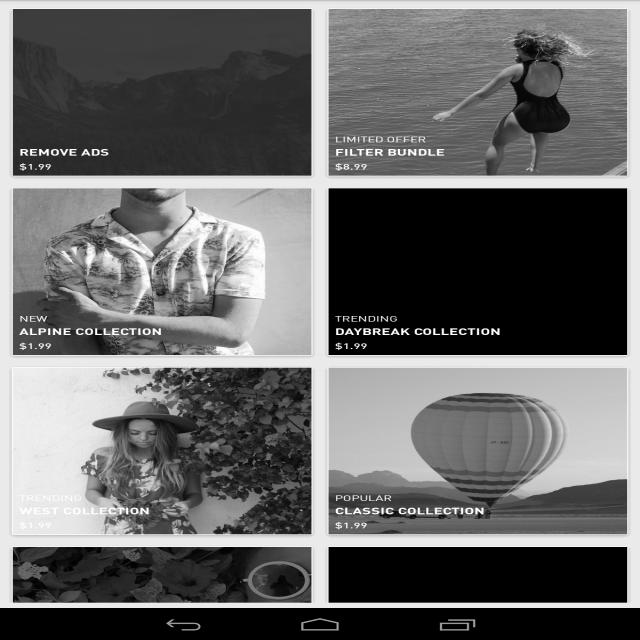ImageView: (13, 9, 311, 176), (329, 9, 627, 176), (13, 188, 311, 355), (329, 188, 627, 355), (13, 368, 311, 534), (329, 368, 627, 534), (13, 547, 311, 640), (329, 547, 627, 640), (2, 541, 140, 568), (144, 541, 282, 568), (286, 541, 423, 568), (428, 541, 565, 568), (436, 482, 501, 518), (8, 482, 72, 518), (79, 482, 143, 518), (150, 482, 214, 518), (222, 482, 286, 518), (294, 482, 358, 518), (365, 482, 429, 518), (508, 482, 572, 518), (579, 482, 640, 518), (569, 541, 640, 567), (307, 584, 333, 600), (142, 589, 157, 595)
TextView: (5, 0, 130, 37), (552, 0, 634, 37), (440, 585, 627, 599), (335, 324, 501, 339), (335, 503, 485, 519), (436, 482, 501, 518), (8, 482, 72, 518), (79, 482, 143, 518), (150, 482, 214, 518), (222, 482, 286, 518), (294, 482, 358, 518), (365, 482, 429, 518), (508, 482, 572, 518), (579, 482, 640, 518), (19, 324, 163, 339), (20, 503, 150, 519), (335, 144, 445, 160), (20, 144, 110, 160), (335, 133, 426, 144), (77, 585, 136, 599), (436, 518, 501, 530), (8, 518, 72, 530), (79, 518, 143, 530), (150, 518, 214, 530), (222, 518, 286, 530), (294, 518, 358, 530), (365, 518, 429, 530), (508, 518, 572, 530), (335, 312, 398, 324), (579, 518, 640, 530), (19, 492, 82, 503), (335, 492, 392, 503), (19, 160, 52, 172), (19, 339, 52, 351), (335, 160, 367, 172), (335, 339, 367, 351), (19, 519, 52, 530), (335, 519, 367, 530), (19, 312, 48, 324)
